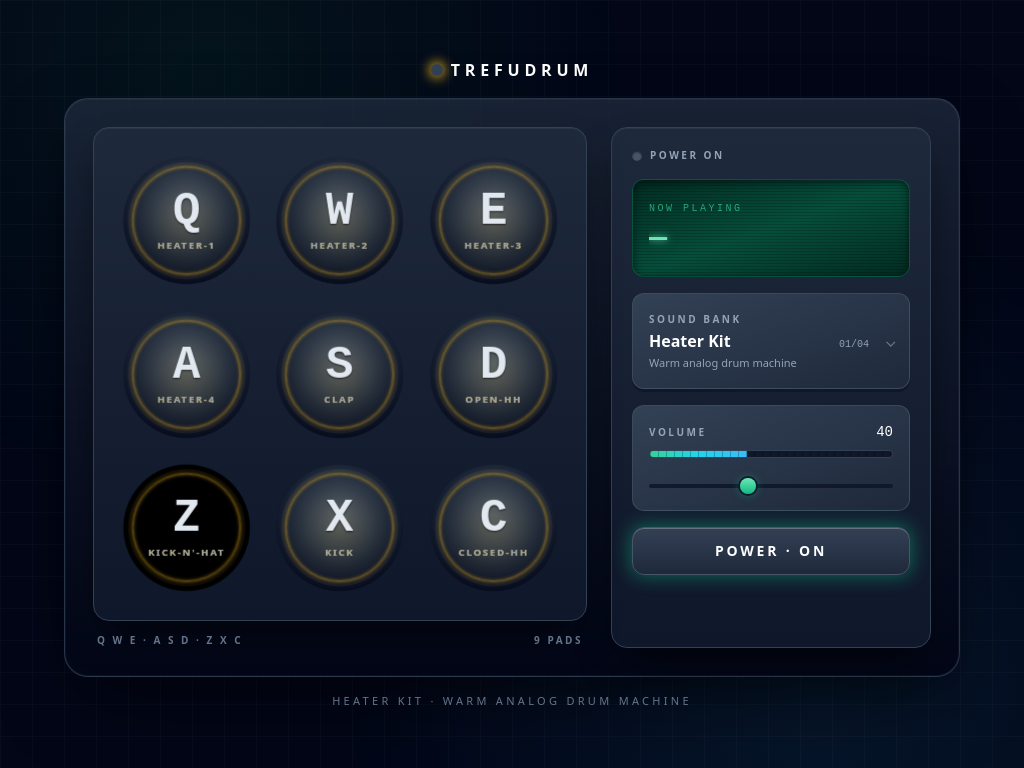
it: freeCodeCamp Drum Machine — Test Suite › 4. Clicking a .drum-pad triggers the audio and updates the display › clicking the first pad should play its audio and update #display text
Click the button with class "drum-pad" showing "Q Heater-1": click(187, 221) [118, 152, 255, 290]
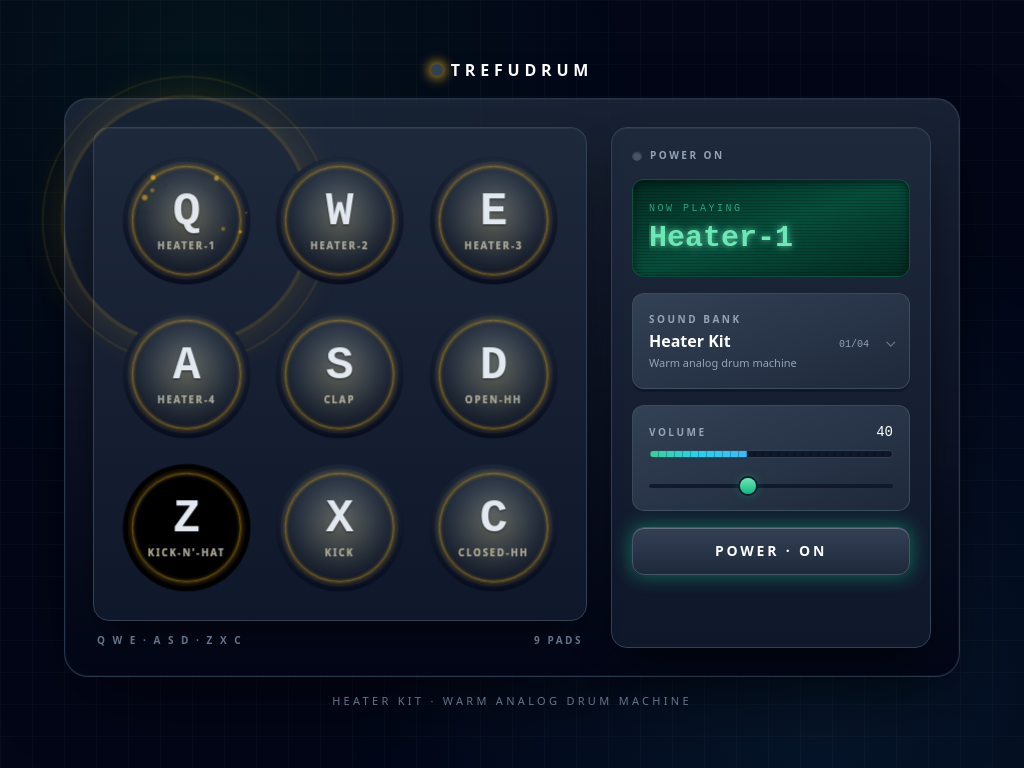
Expected: the element with id "display" shows "Heater-1", [649, 221, 793, 255]
